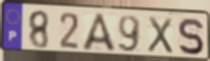2: (58, 12, 80, 51)
8: (27, 9, 51, 50)
9: (116, 14, 144, 53)
A: (81, 12, 119, 54)
S: (176, 16, 206, 56)
X: (146, 15, 175, 55)
